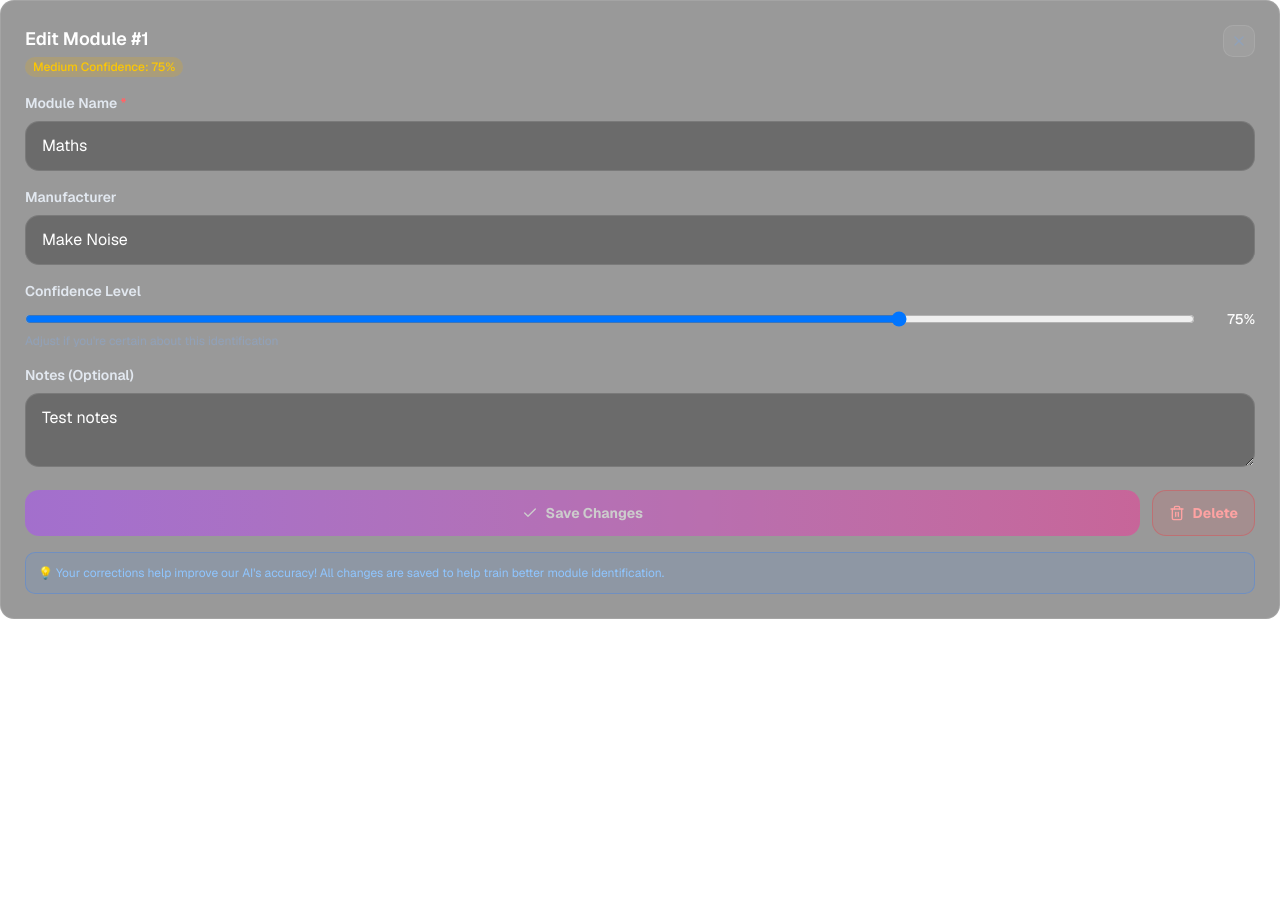
Test: ModuleCorrectionPanel › shows delete confirmation on first click
Step 1. Click the button "Delete" → (1203, 513), box [1152, 490, 1255, 536]
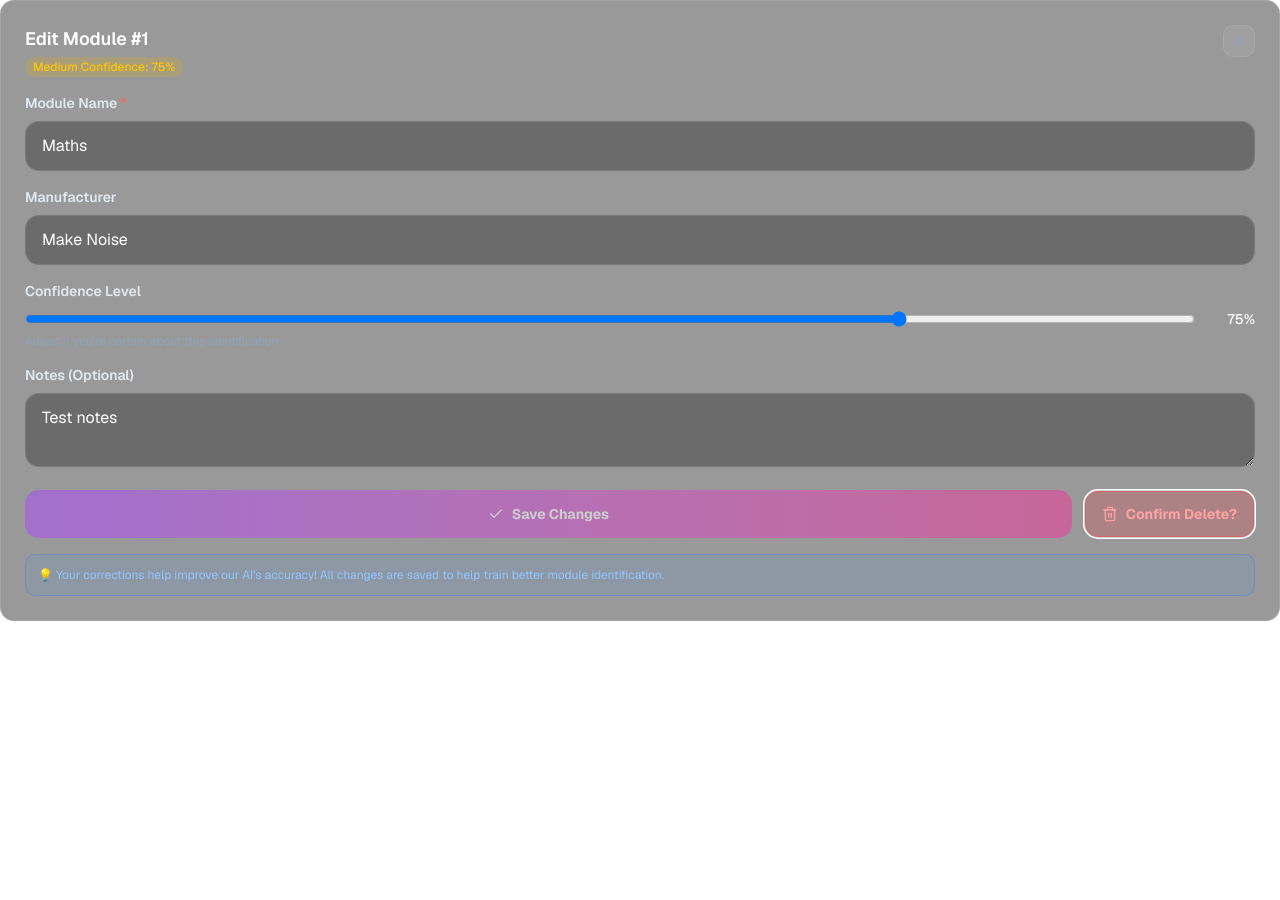
expect the button "Confirm Delete?" is shown: met, box [1084, 490, 1255, 538]
